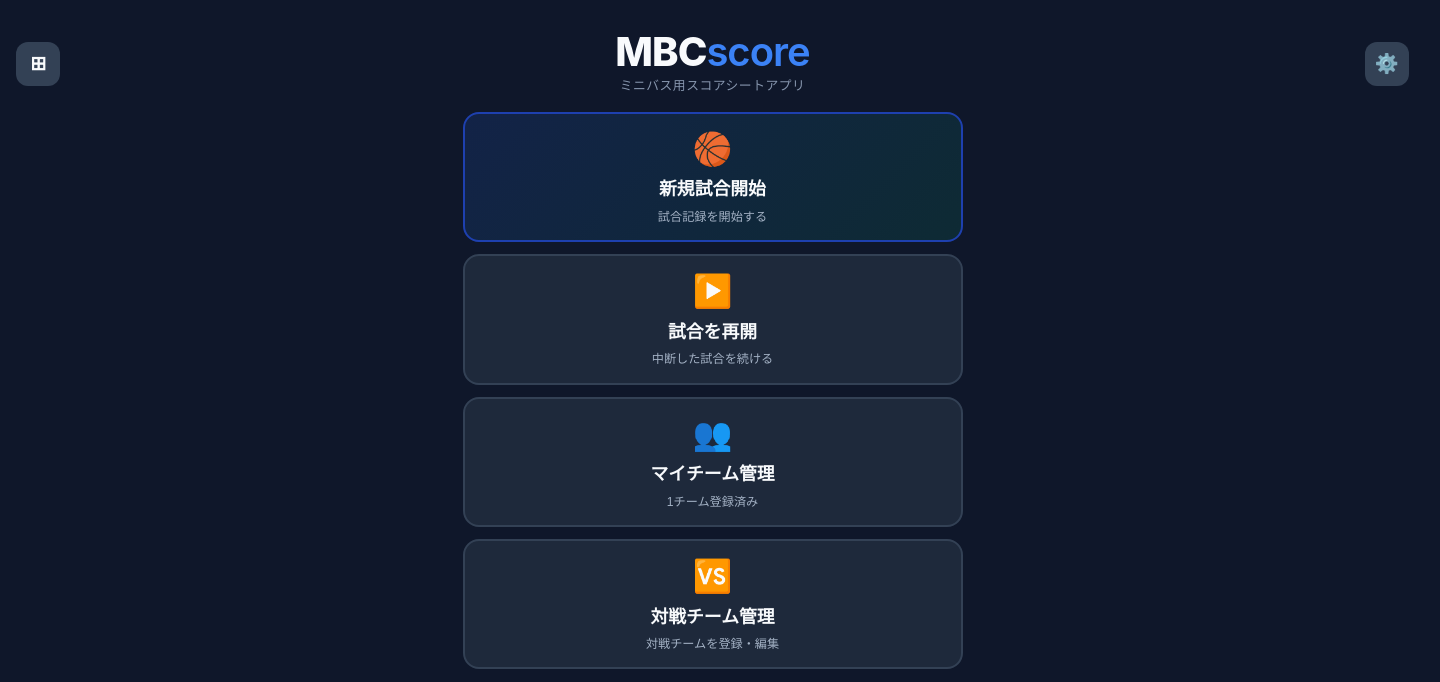
Test: 第4Q終了時の未割り当て得点 › 得点の保留が残っていたら、試合終了の確認より先に知らせる
Click the text "試合を再開" at (713, 330), box [668,317,757,343]
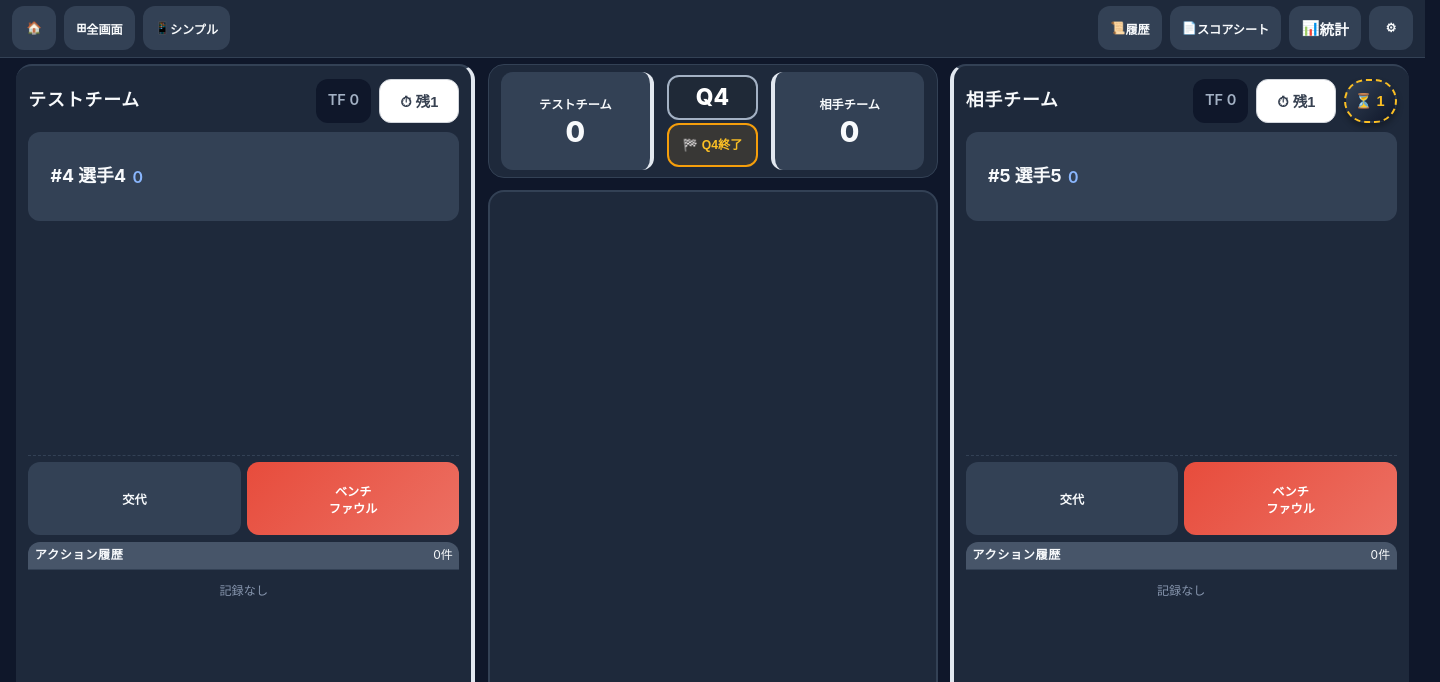
Click the text "Q4終了" at (722, 145), box [702,138,742,152]
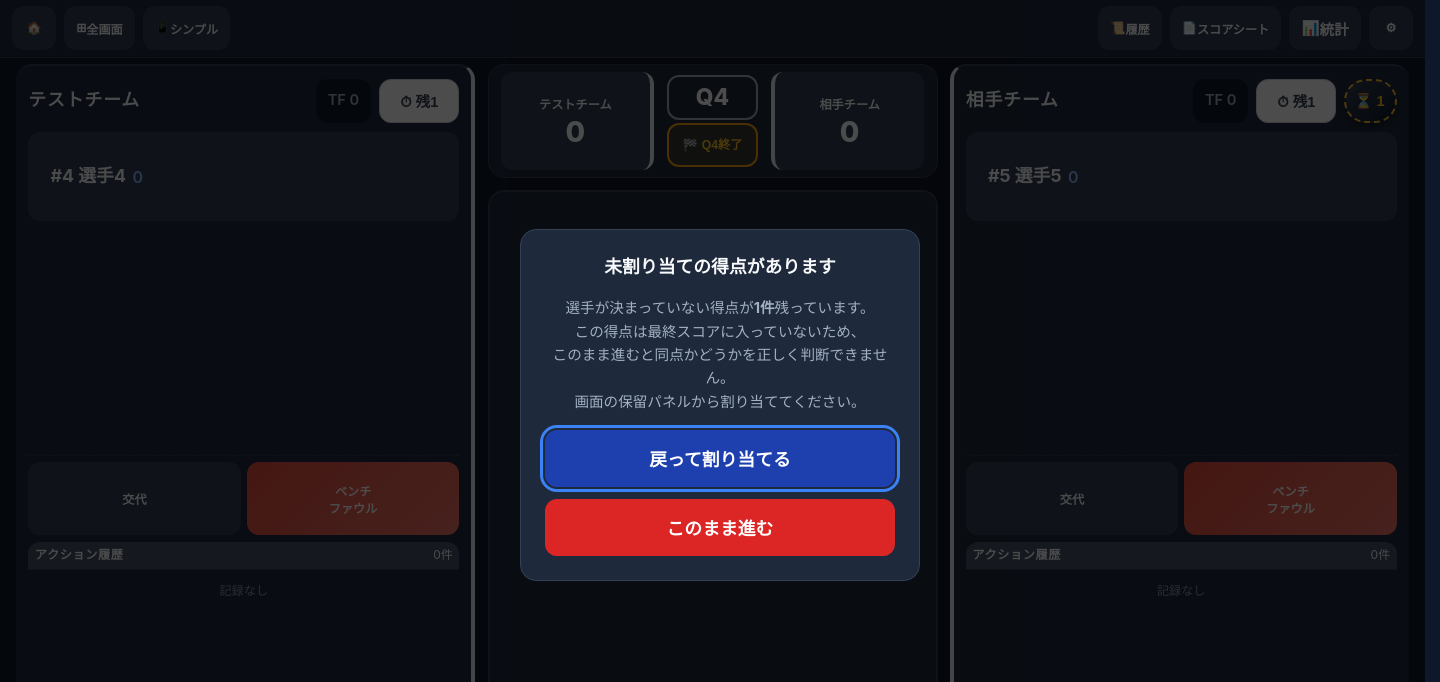
Check: the heading "未割り当ての得点があります" is shown, box [604,256,836,277]
